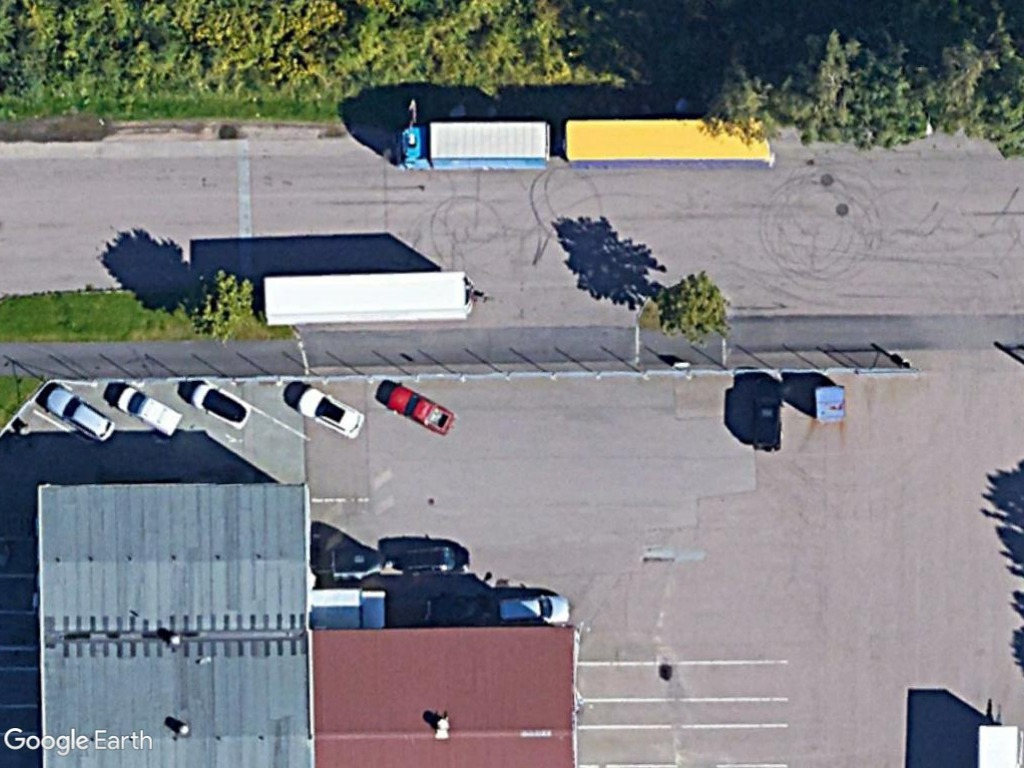car: (44, 384, 118, 444), (380, 383, 457, 439), (293, 383, 368, 439), (491, 588, 574, 632), (188, 379, 253, 433)
truck: (396, 114, 558, 176)
van: (114, 378, 187, 436)
